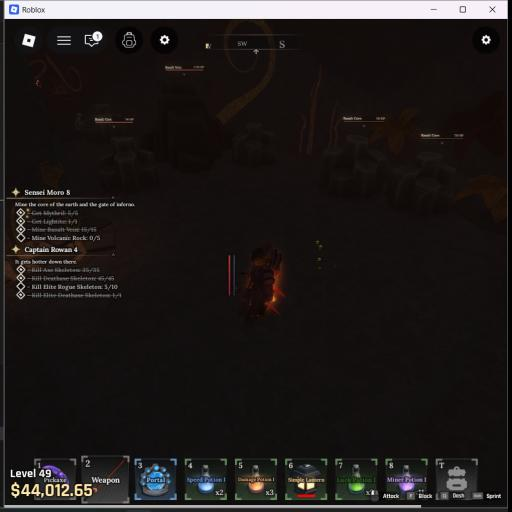player: (239, 245, 284, 326)
rock: (153, 82, 220, 170), (385, 151, 455, 216), (321, 135, 387, 198), (99, 136, 159, 191), (232, 124, 274, 166)
